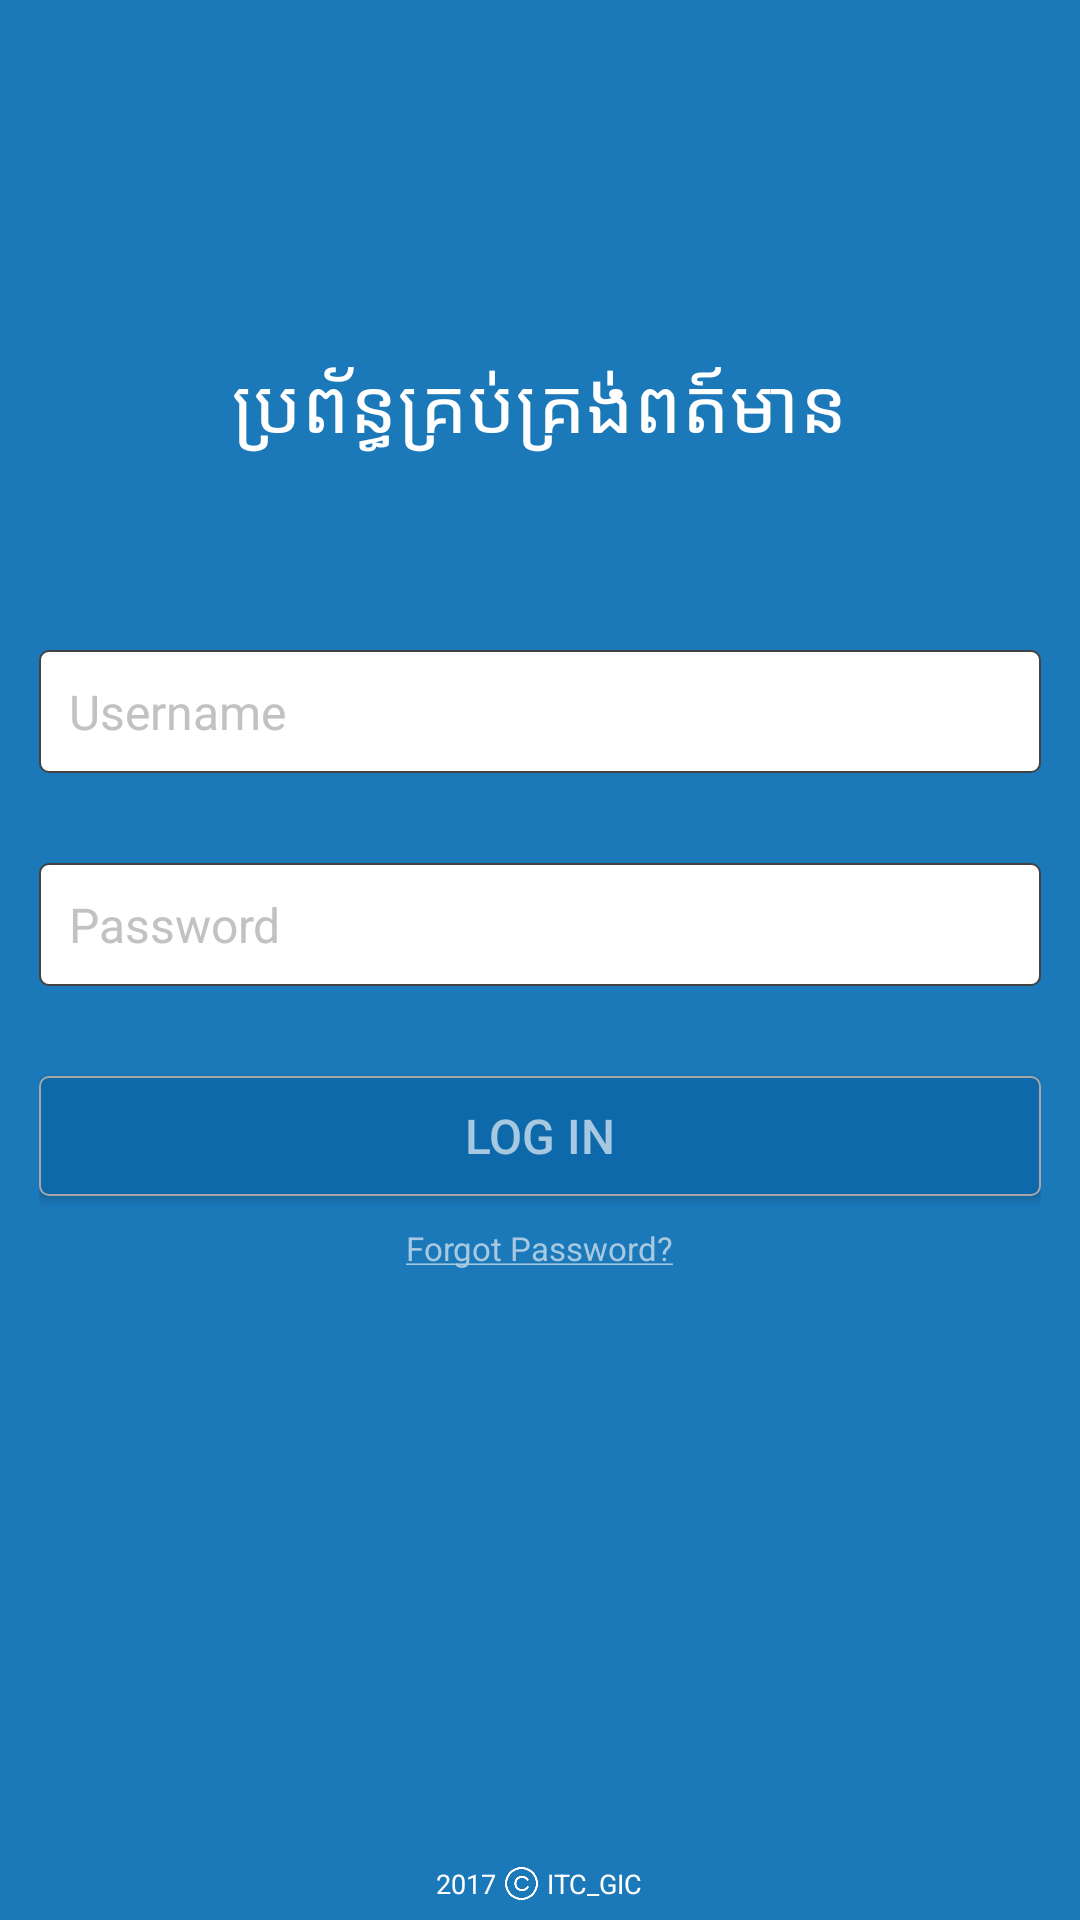

Where to tap for icons on this 1080w x 1920h app screen, as (x,y):
copyright: (521,1883)
